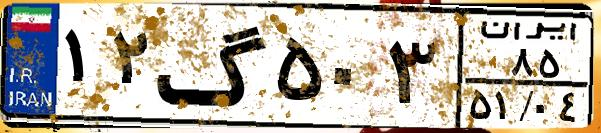0: (330, 28, 385, 110), (535, 70, 560, 125)
1: (57, 26, 110, 100), (495, 70, 520, 125)
2: (110, 28, 156, 98)
3: (385, 28, 445, 110)
4: (560, 70, 590, 125)
5: (270, 28, 330, 110), (537, 27, 568, 80), (470, 70, 495, 125)
8: (508, 27, 537, 80)
گ: (156, 12, 270, 120)
